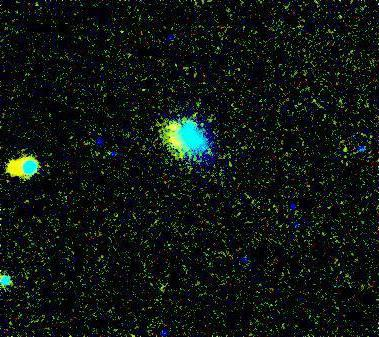star: (157, 112, 187, 142)
